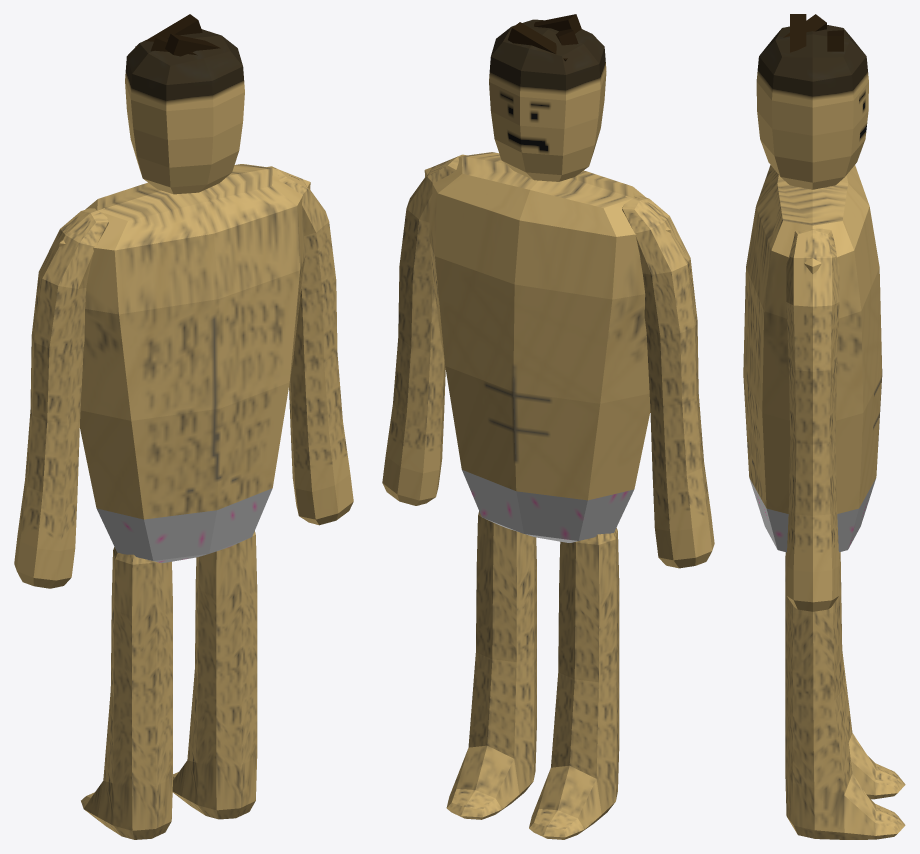
The model's file is player2.fbx_Collection.fbx.
3 views of the same model, side by side, from view 1: azimuth 30°, elevation 25°; view 2: azimuth 150°, elevation 25°; view 3: azimuth 270°, elevation 25° (orthographic). The views are drawn at different scales.
Visible parts, largest first — view 1: Body, LHand, LLeg, RLeg, Head, RHand, Cube, Cube.001; view 2: Body, LLeg, LHand, RLeg, Head, RHand, Cube.001; view 3: Body, RHand, RLeg, Head, LLeg, Cube, Cube.001.
Boxes of the visible parts, box(x1,y1,x2,y2) form: Body: box(59, 164, 310, 562); LHand: box(14, 208, 108, 588); LLeg: box(81, 547, 172, 839); RLeg: box(172, 531, 257, 819); Head: box(125, 29, 244, 194); RHand: box(267, 166, 353, 525); Cube: box(165, 33, 220, 56); Cube.001: box(135, 14, 202, 48); Body: box(424, 152, 670, 542); LLeg: box(529, 528, 619, 839); LHand: box(622, 195, 714, 568); RLeg: box(446, 511, 536, 819); Head: box(489, 19, 606, 181); RHand: box(382, 154, 466, 505); Cube.001: box(508, 22, 567, 61); Body: box(743, 165, 882, 552); RHand: box(786, 228, 839, 611); RLeg: box(785, 552, 905, 839); Head: box(756, 25, 868, 189); LLeg: box(785, 552, 905, 799); Cube: box(790, 14, 806, 52); Cube.001: box(827, 30, 843, 51).
Bounding box in the file's own units: 232 × 530 × 98.66.
5 materials, 4 textured.
